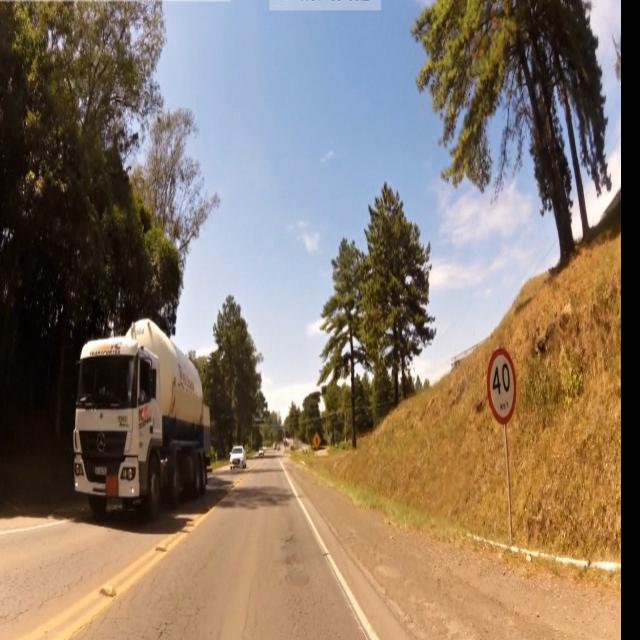R-19: (488, 349, 516, 428)
